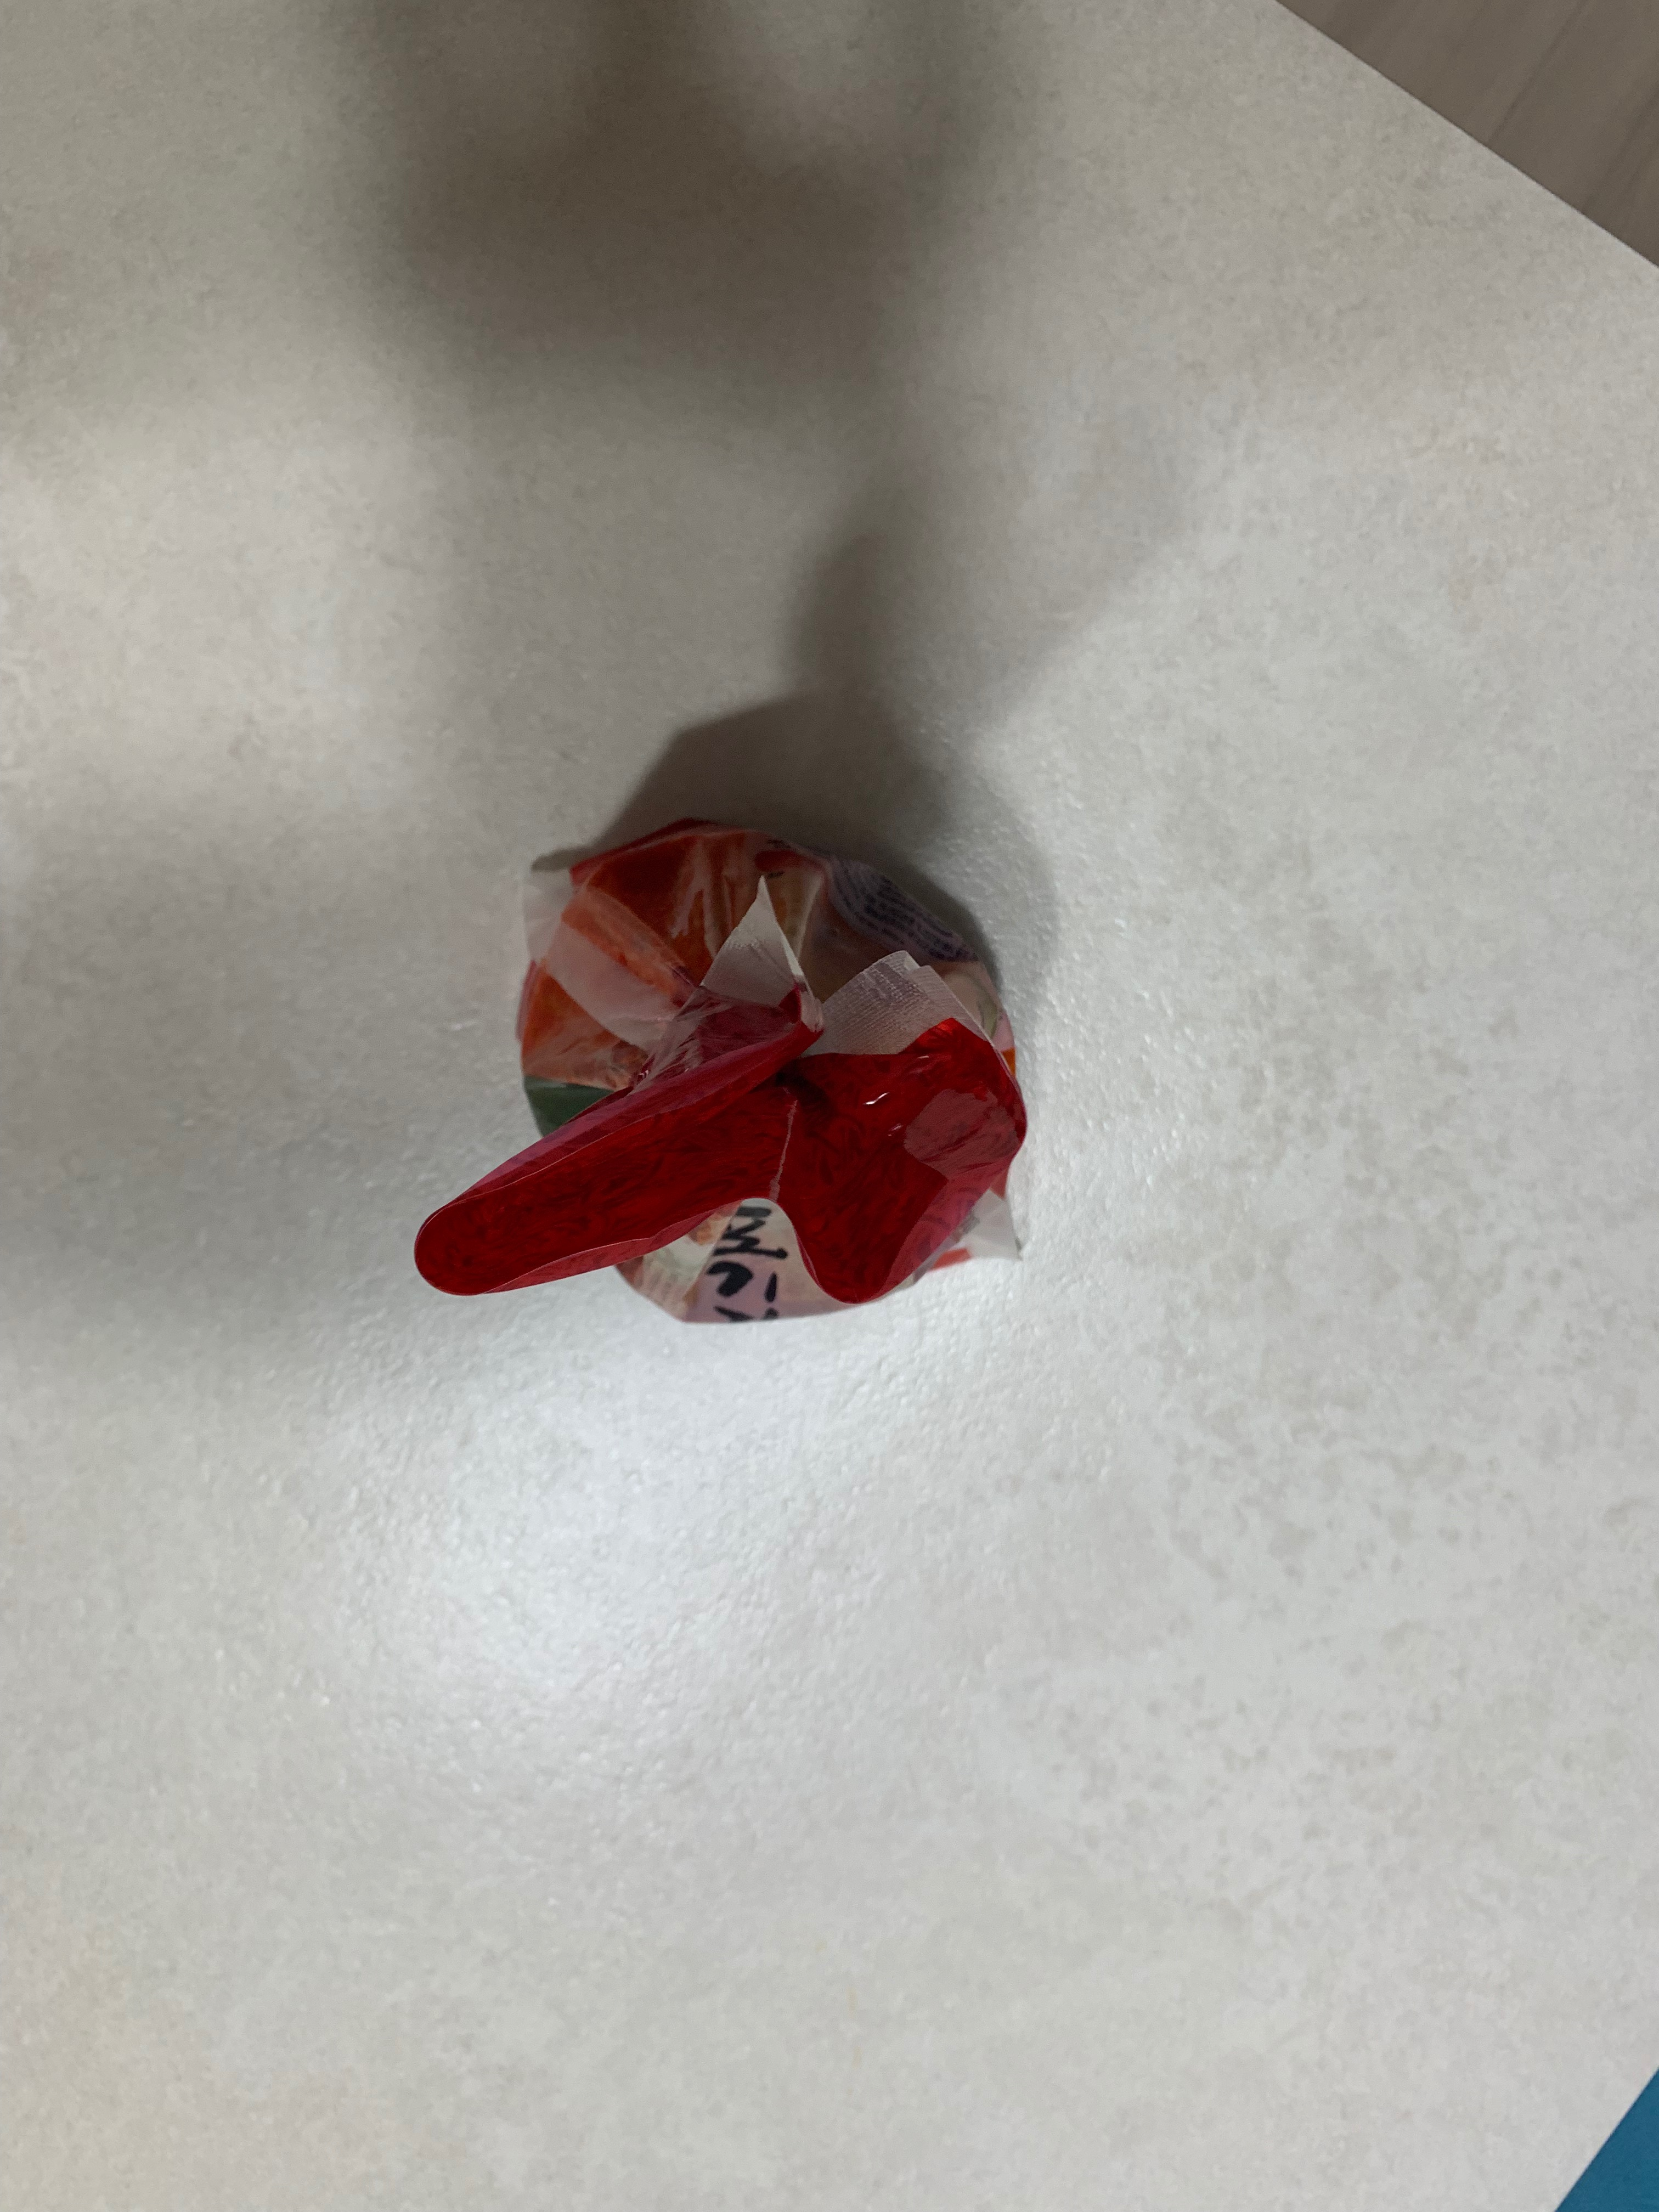kimchi: (420, 819, 1030, 1325)
